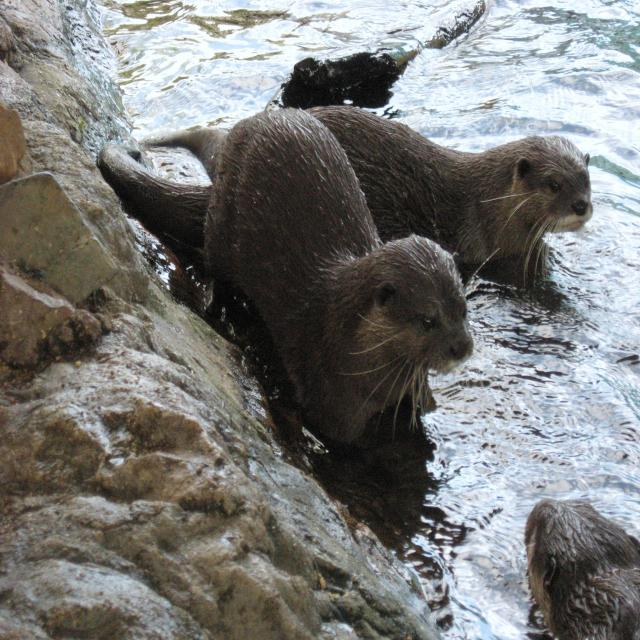otter: (204, 111, 473, 467), (170, 105, 595, 286), (526, 499, 640, 640)
